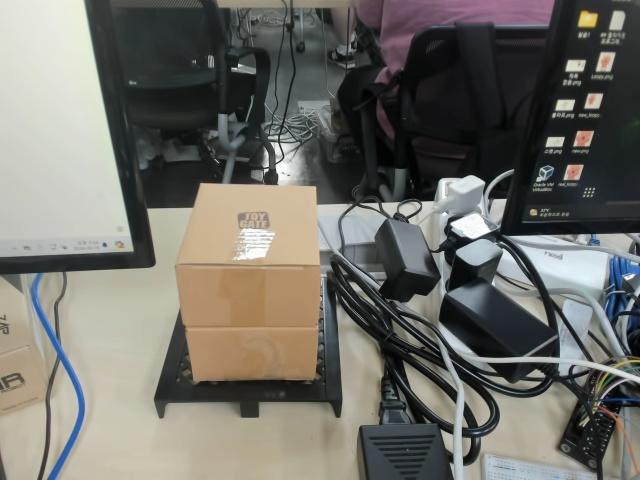box: (155, 183, 343, 419)
